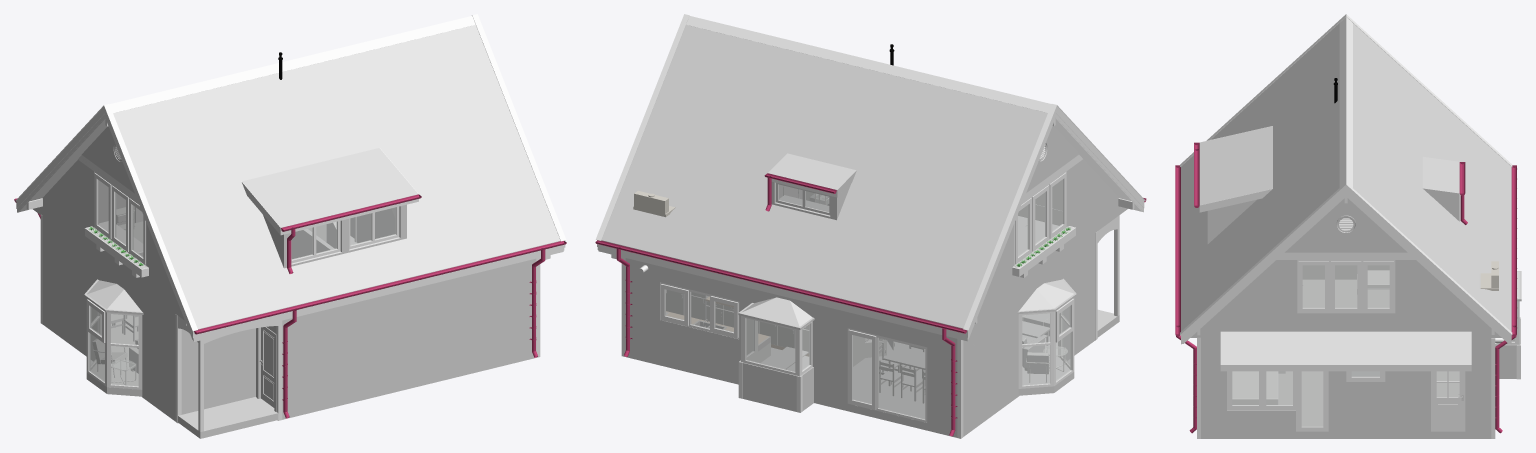
Rendered from Sketchfab_2022_12_31_11_17_37.fbx.
3 renders of one model, left to right at view 1: azimuth 30°, elevation 25°; view 2: azimuth 150°, elevation 25°; view 3: azimuth 270°, elevation 25°, orthographic. The views are drawn at different scales.
Visible parts, largest first — view 1: VisualSceneNode1.086, VisualSceneNode1.003, VisualSceneNode1.093, VisualSceneNode1.001, VisualSceneNode1.045, VisualSceneNode1.028, VisualSceneNode1.005, VisualSceneNode1.288, VisualSceneNode1.090, VisualSceneNode1, VisualSceneNode1.241, VisualSceneNode1.201 (+14 smaller); view 2: VisualSceneNode1.086, VisualSceneNode1.015, VisualSceneNode1.001, VisualSceneNode1.046, VisualSceneNode1.045, VisualSceneNode1.028, VisualSceneNode1.082, VisualSceneNode1.288, VisualSceneNode1.094, VisualSceneNode1.089, VisualSceneNode1.140, VisualSceneNode1.090 (+16 smaller); view 3: VisualSceneNode1.086, VisualSceneNode1.002, VisualSceneNode1.026, VisualSceneNode1.182, VisualSceneNode1.093, VisualSceneNode1.091, VisualSceneNode1.047, VisualSceneNode1.088, VisualSceneNode1.243, VisualSceneNode1.244, VisualSceneNode1.089, VisualSceneNode1.288 (+20 smaller).
Part boxes in pixels (left/top/right/bottom): VisualSceneNode1.086: left=17, top=25, right=563, bottom=341; VisualSceneNode1.003: left=282, top=258, right=536, bottom=419; VisualSceneNode1.093: left=241, top=148, right=418, bottom=268; VisualSceneNode1.001: left=43, top=217, right=175, bottom=421; VisualSceneNode1.045: left=84, top=279, right=143, bottom=389; VisualSceneNode1.028: left=41, top=160, right=184, bottom=319; VisualSceneNode1.005: left=181, top=328, right=255, bottom=414; VisualSceneNode1.288: left=109, top=16, right=475, bottom=113; VisualSceneNode1.090: left=94, top=172, right=146, bottom=265; VisualSceneNode1: left=178, top=397, right=278, bottom=438; VisualSceneNode1.241: left=104, top=104, right=197, bottom=339; VisualSceneNode1.201: left=194, top=241, right=566, bottom=334; VisualSceneNode1.086: left=598, top=25, right=1143, bottom=341; VisualSceneNode1.015: left=625, top=258, right=957, bottom=437; VisualSceneNode1.001: left=963, top=233, right=1095, bottom=436; VisualSceneNode1.046: left=847, top=328, right=927, bottom=422; VisualSceneNode1.045: left=1017, top=278, right=1076, bottom=388; VisualSceneNode1.028: left=977, top=159, right=1119, bottom=318; VisualSceneNode1.082: left=738, top=297, right=814, bottom=376; VisualSceneNode1.288: left=686, top=16, right=1051, bottom=112; VisualSceneNode1.094: left=768, top=153, right=856, bottom=220; VisualSceneNode1.089: left=771, top=336, right=1074, bottom=418; VisualSceneNode1.140: left=660, top=282, right=739, bottom=339; VisualSceneNode1.090: left=1014, top=171, right=1066, bottom=265; VisualSceneNode1.086: left=1181, top=23, right=1511, bottom=344; VisualSceneNode1.002: left=1201, top=338, right=1491, bottom=438; VisualSceneNode1.026: left=1197, top=260, right=1495, bottom=337; VisualSceneNode1.182: left=1220, top=331, right=1471, bottom=371; VisualSceneNode1.093: left=1199, top=126, right=1272, bottom=243; VisualSceneNode1.091: left=1297, top=260, right=1395, bottom=313; VisualSceneNode1.047: left=1227, top=371, right=1328, bottom=431; VisualSceneNode1.088: left=1285, top=198, right=1407, bottom=252; VisualSceneNode1.243: left=1180, top=182, right=1346, bottom=343; VisualSceneNode1.244: left=1346, top=182, right=1512, bottom=343; VisualSceneNode1.089: left=1278, top=371, right=1516, bottom=426; VisualSceneNode1.288: left=1339, top=17, right=1352, bottom=187.
Size of the model in its own units: 1071 by 777 by 885.
